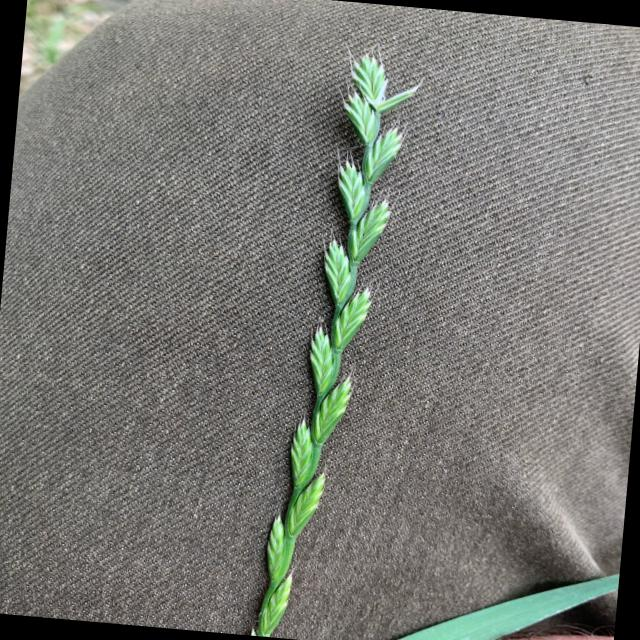Lolium: (248, 36, 426, 640)
